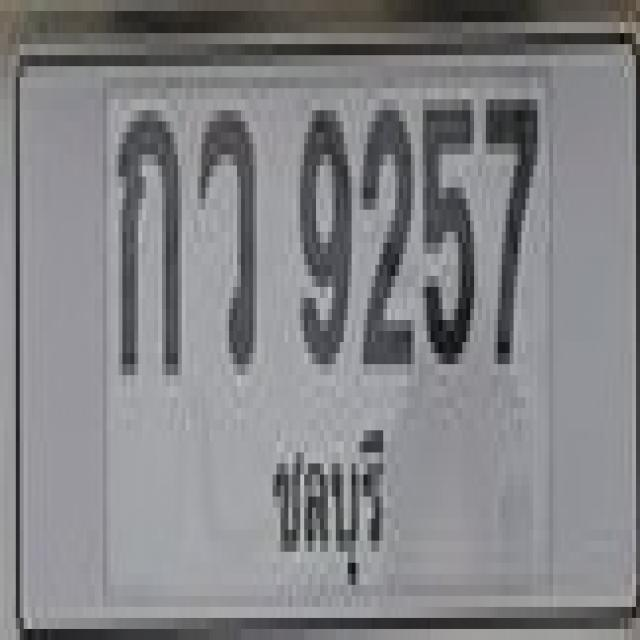license_plate: (8, 33, 640, 629)
